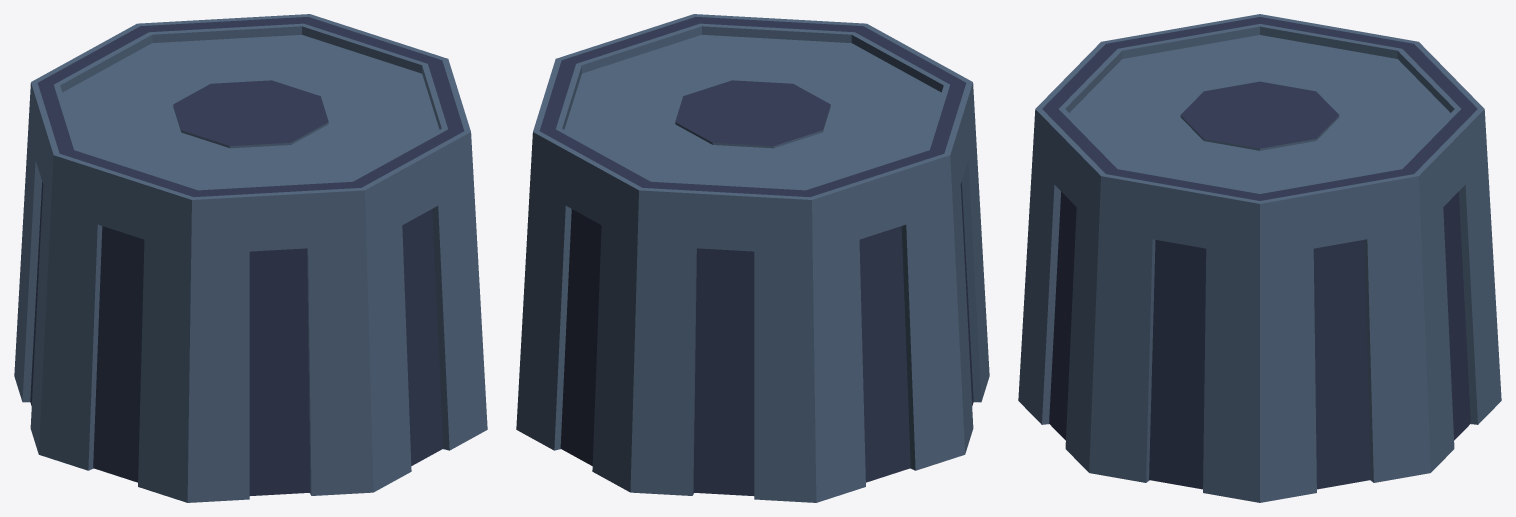
Rendered from Band_TrashDrum02.fbx.
3 views of the same model, side by side, from view 1: azimuth 30°, elevation 25°; view 2: azimuth 150°, elevation 25°; view 3: azimuth 270°, elevation 25° (orthographic).
Parts seen in each view (by area): view 1: Cylinder.194; view 2: Cylinder.194; view 3: Cylinder.194.
Boxes of the visible parts, x1,y1,x2,y2 form: Cylinder.194: [14, 14, 487, 502]; Cylinder.194: [516, 14, 989, 502]; Cylinder.194: [1018, 14, 1501, 502].
Size of the model in its own units: 48.63 by 32.41 by 48.63.
